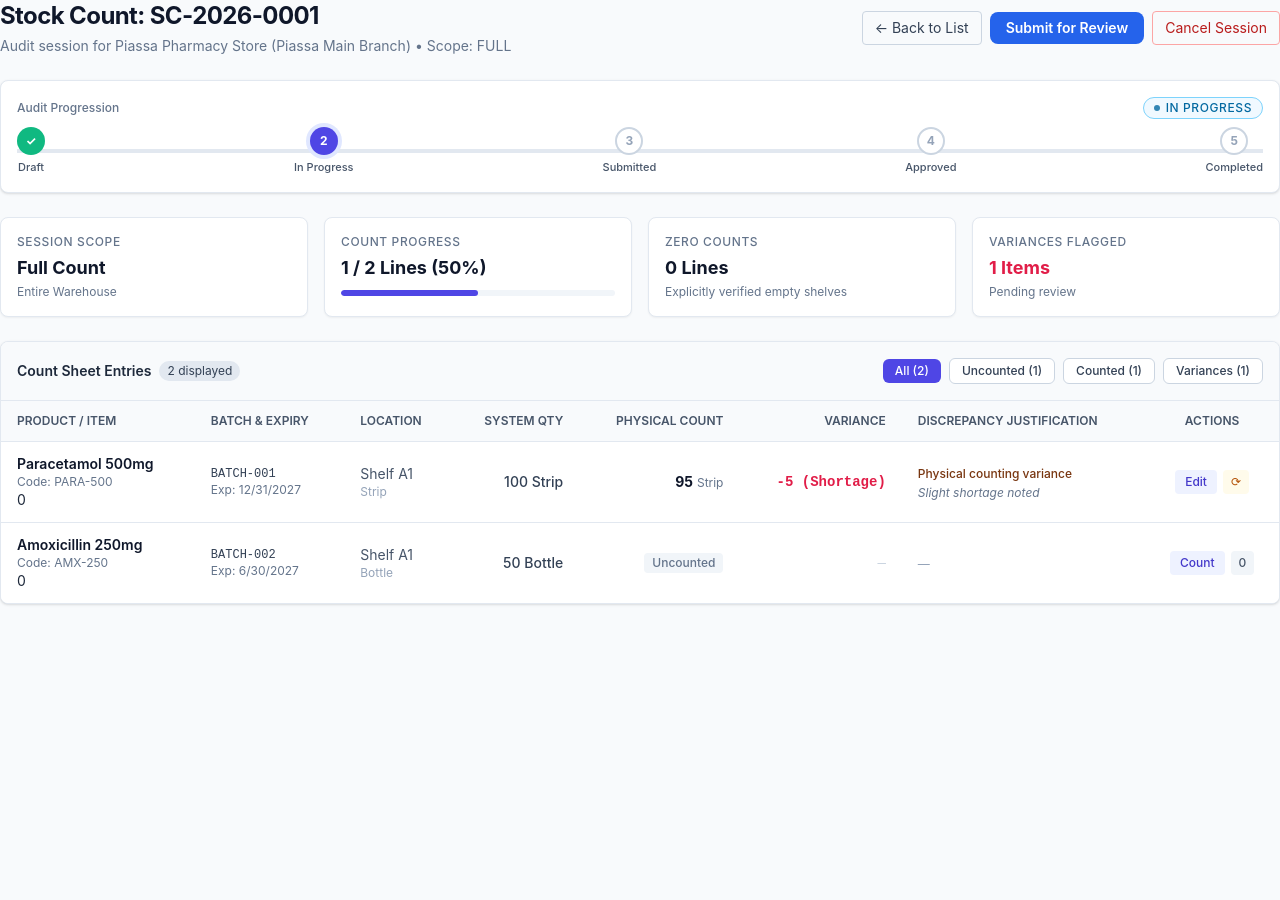
it: Stock Counting & Adjustments Frontend Pages › opens physical count recording modal and allows saving physical quantity
Expected: the heading "Stock Count: SC-2026-0001" is shown, [0,1,319,30]
# Click "Count" on uncounted item (Amoxicillin line 102)
Click the button with test id "count-line-btn-102".
click(1197, 562)  # box [1170,550,1224,574]
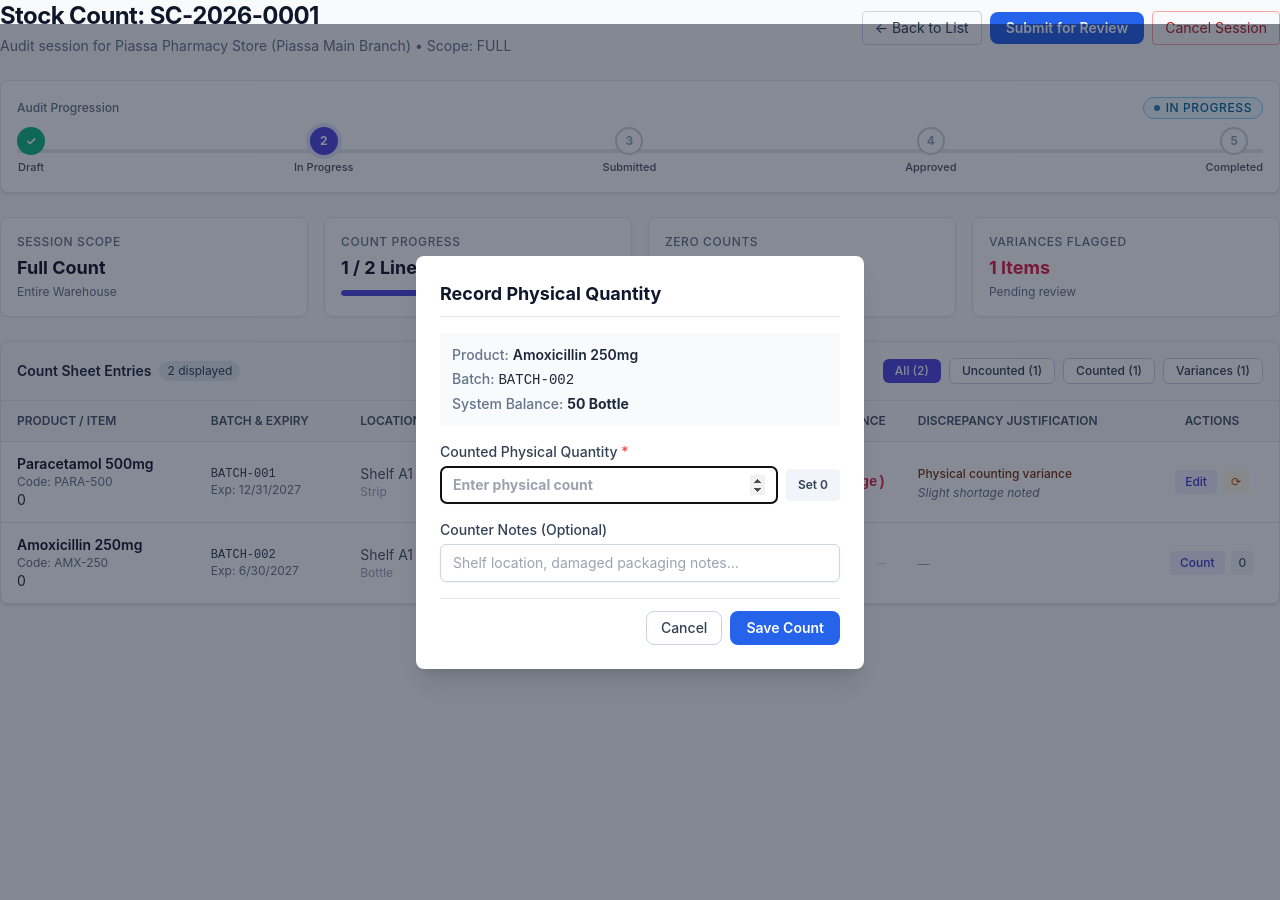
Now the heading "Record Physical Quantity" is shown, box [440,280,840,316]
Type "48" into the number field with placeholder "Enter physical count".
click(609, 484); type("48")  # box [440,466,778,504]
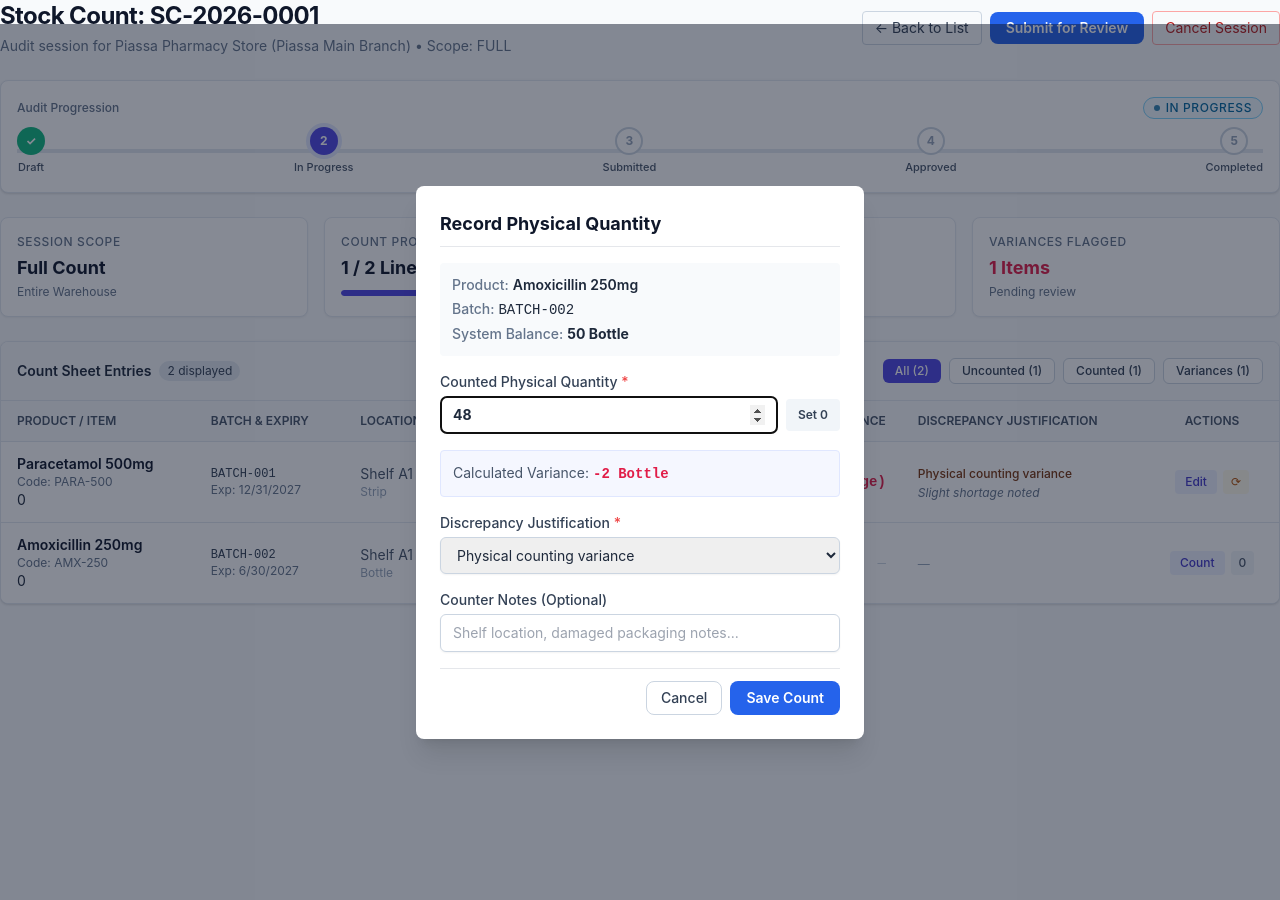
Now the text "Calculated Variance:" is shown, box [453,464,593,480]
Now the text "-2 Bottle" is shown, box [593,466,669,482]
